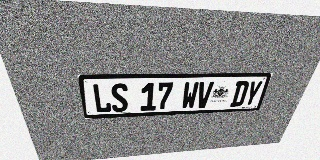1: (141, 83, 157, 111)
7: (156, 82, 173, 110)
D: (230, 81, 250, 107)
L: (92, 83, 112, 113)
S: (110, 83, 128, 112)
V: (195, 82, 214, 108)
W: (181, 82, 199, 109)
Y: (242, 81, 263, 106)
